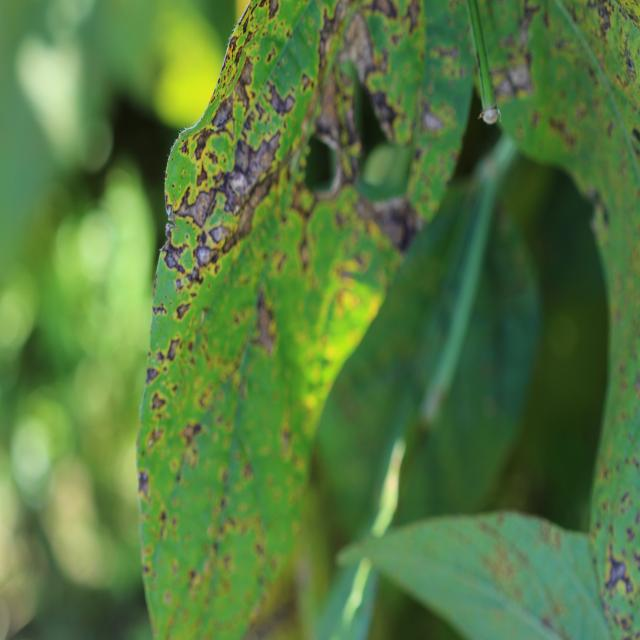Anthracnose: (362, 191, 420, 255), (336, 12, 380, 84), (145, 375, 184, 456), (174, 419, 207, 482), (243, 34, 280, 86), (176, 184, 216, 230), (437, 50, 464, 83), (245, 116, 270, 151)
Bacterial_Blight: (199, 508, 234, 582), (223, 148, 263, 210), (249, 287, 278, 354), (313, 107, 345, 146), (217, 174, 245, 216), (187, 307, 208, 363), (267, 92, 302, 125), (205, 133, 233, 172), (369, 87, 398, 123), (197, 379, 225, 415), (213, 514, 241, 545), (320, 3, 344, 38), (334, 286, 361, 314), (233, 208, 255, 242), (232, 138, 252, 174), (213, 98, 234, 131), (431, 43, 461, 64), (404, 2, 422, 34), (162, 245, 184, 271), (237, 56, 254, 89), (422, 106, 444, 131), (181, 421, 202, 445), (372, 0, 398, 19), (194, 132, 211, 160), (158, 234, 175, 261), (195, 244, 214, 267), (147, 426, 164, 449), (137, 469, 150, 498), (196, 161, 210, 186), (150, 391, 167, 411), (166, 337, 180, 361), (176, 301, 192, 320), (145, 366, 161, 384), (227, 36, 239, 60), (281, 426, 292, 452), (237, 377, 248, 402), (301, 72, 315, 91), (254, 99, 266, 120), (267, 0, 280, 18), (188, 265, 200, 283), (626, 55, 636, 76), (242, 460, 253, 479), (152, 303, 167, 316), (164, 221, 175, 238), (187, 568, 197, 586), (255, 541, 266, 557), (242, 14, 250, 35), (531, 111, 541, 127), (180, 140, 189, 155), (171, 559, 180, 574), (163, 590, 172, 605), (414, 145, 423, 160), (165, 203, 173, 219), (159, 509, 167, 523), (142, 563, 150, 575), (601, 500, 609, 512), (635, 127, 640, 145), (635, 550, 640, 568), (185, 231, 192, 243), (636, 374, 640, 392), (636, 511, 640, 526), (255, 54, 261, 63), (171, 183, 175, 189)
